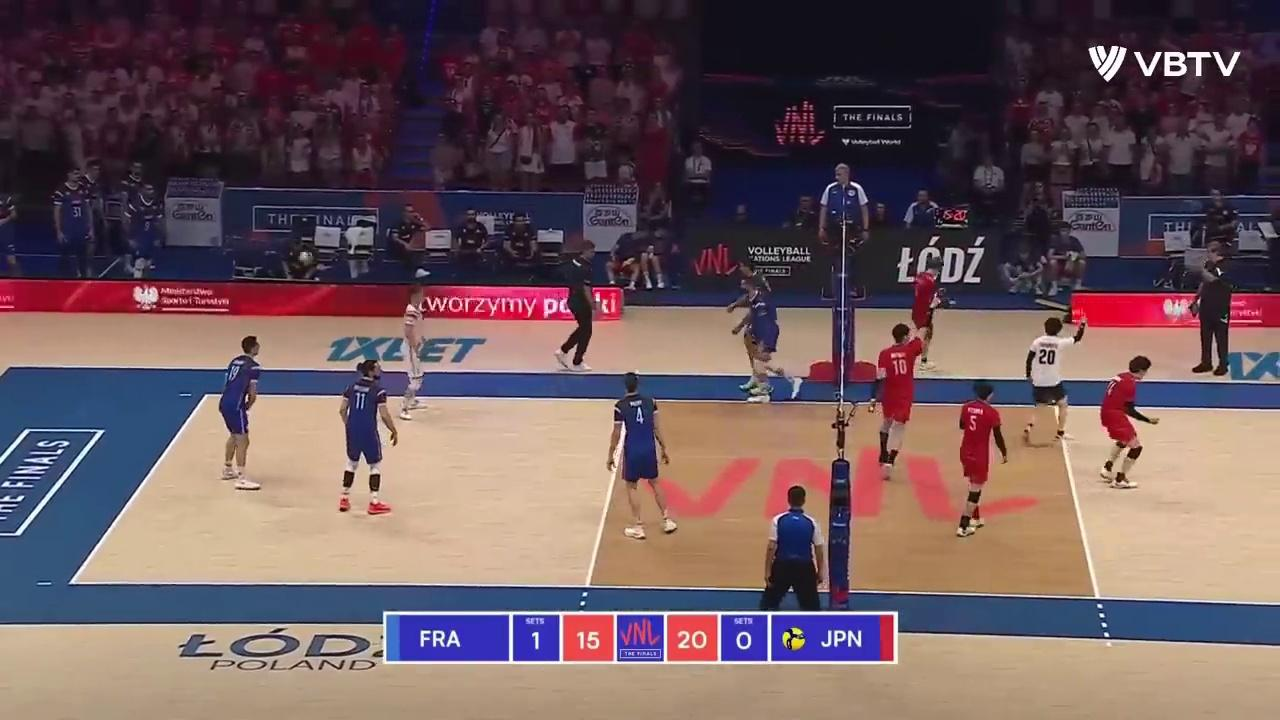ball: (299, 253, 313, 267)
